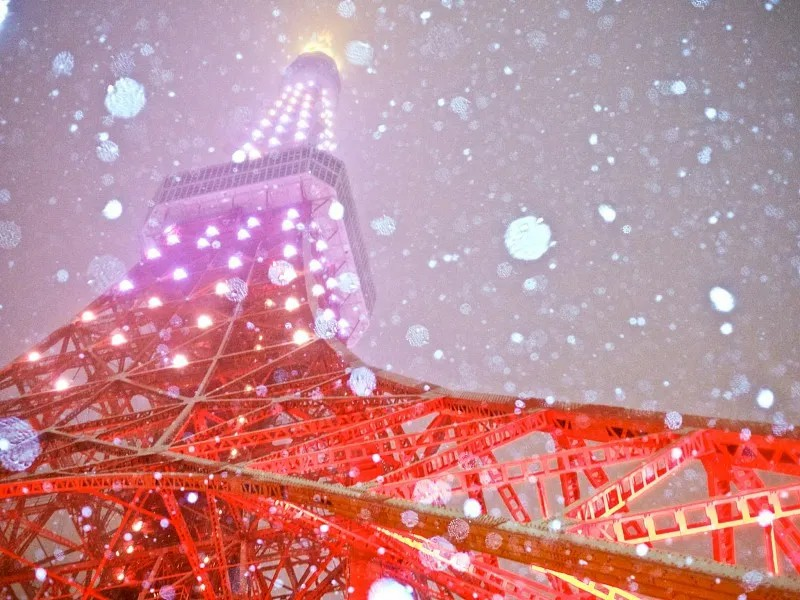Tokyo: (1, 28, 800, 600)
